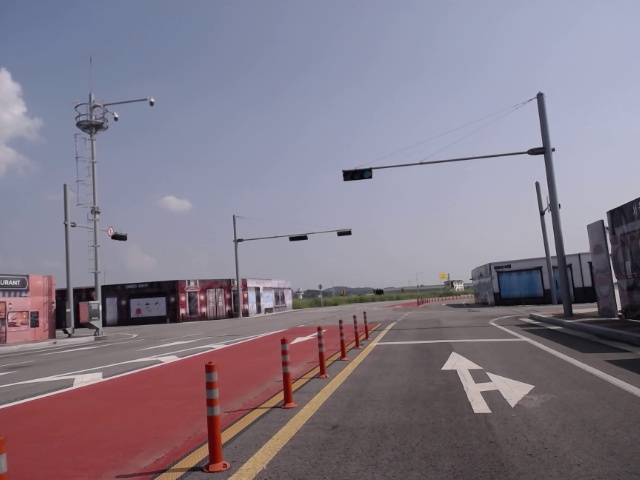green_3: (342, 170, 373, 181)
